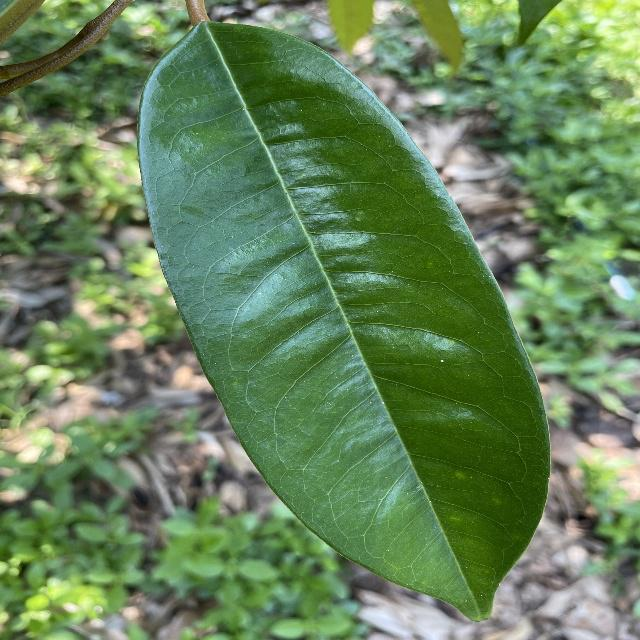No Disease: (135, 13, 565, 623)
